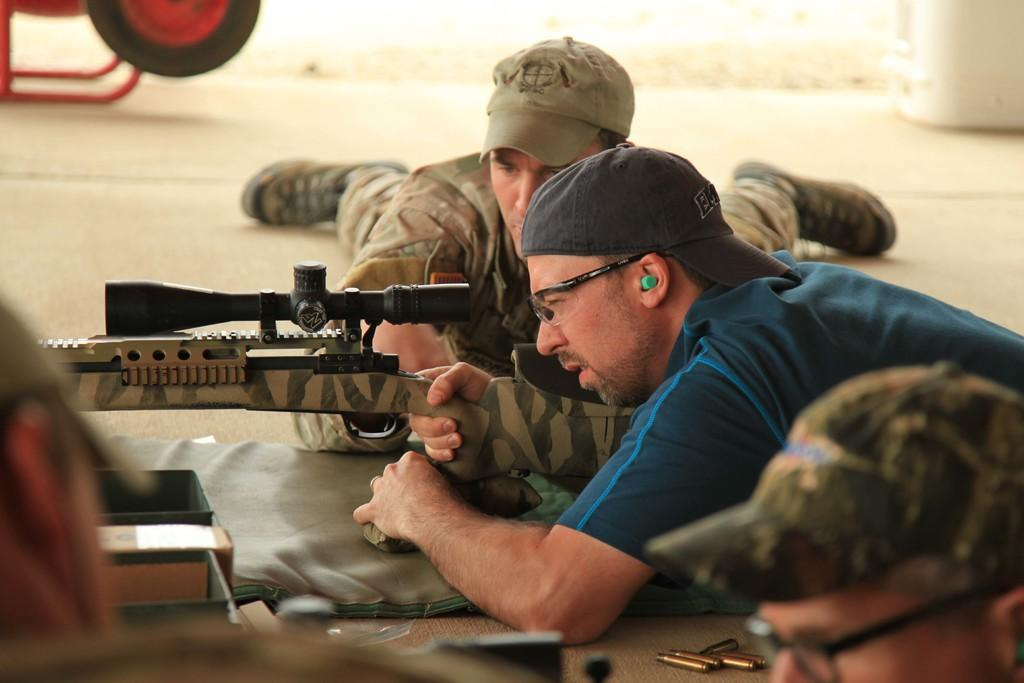Rifle: (42, 254, 591, 485)
